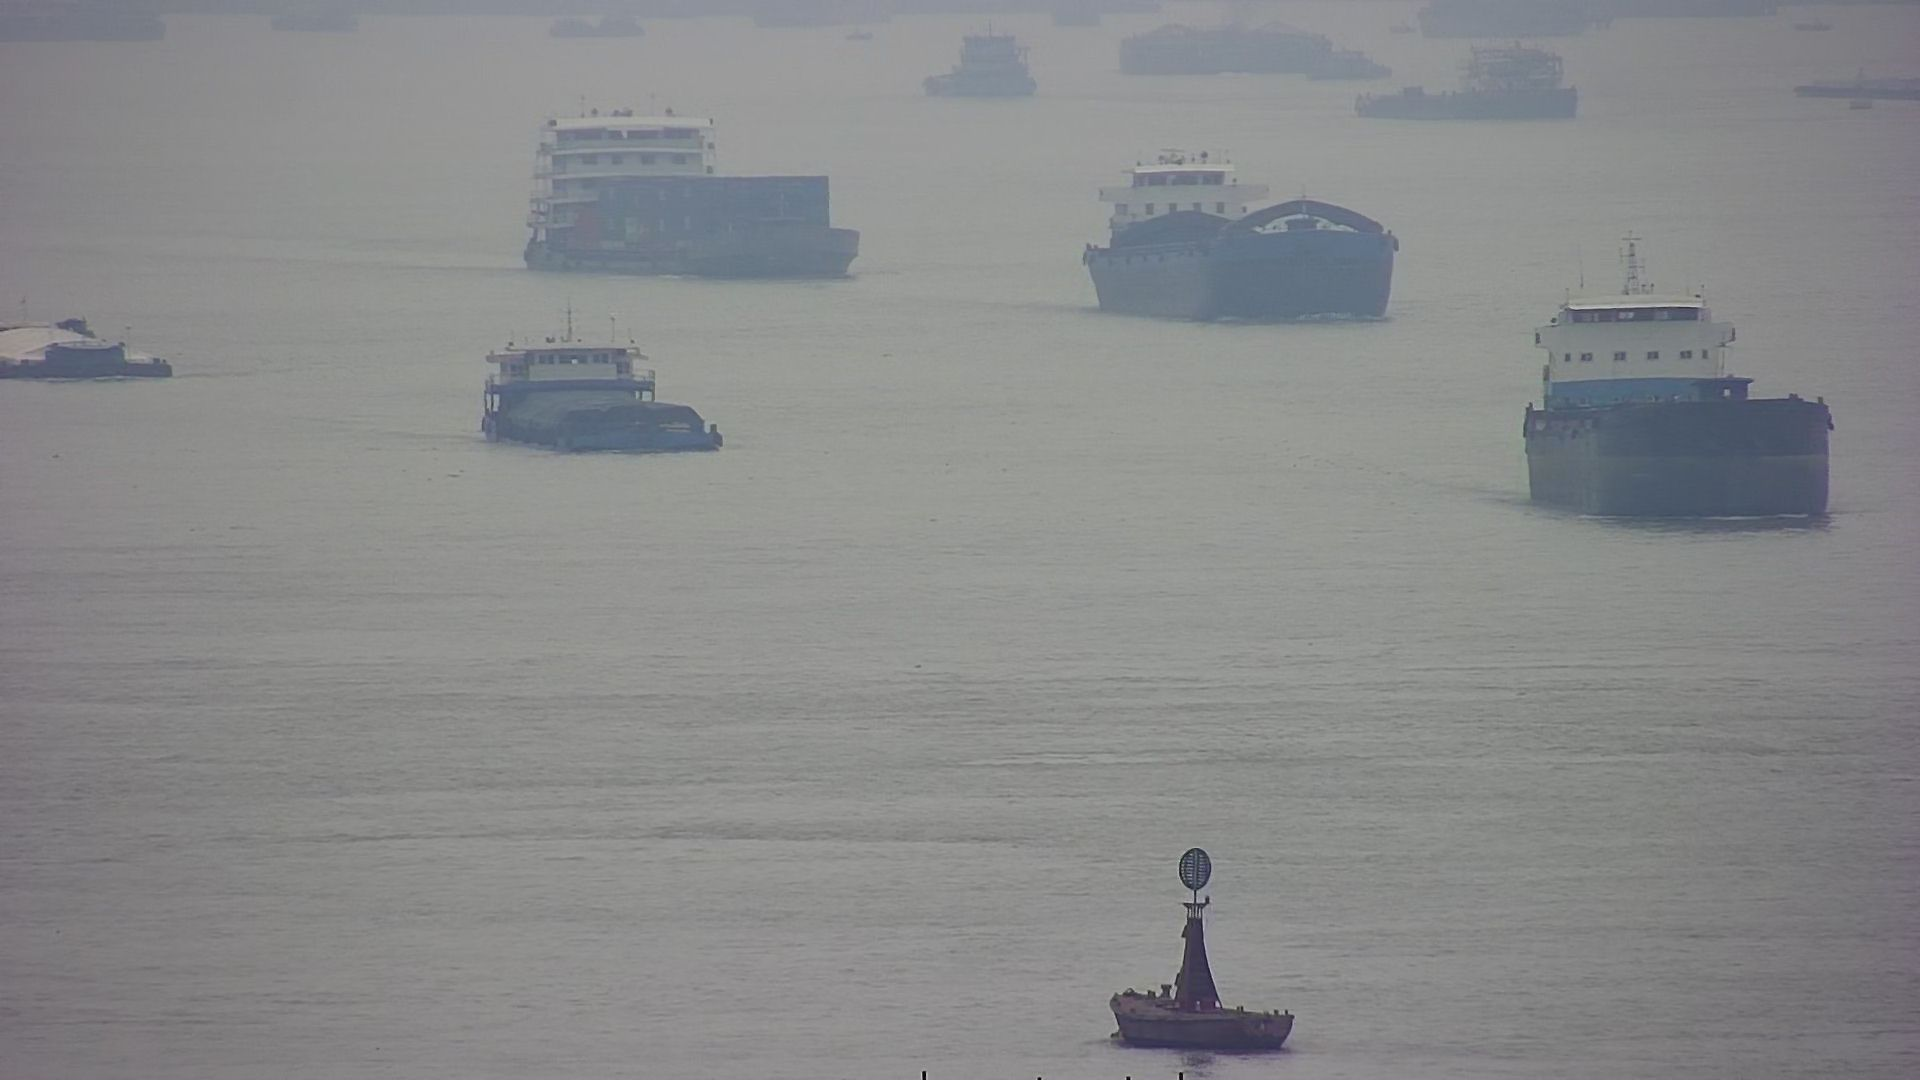boat: (1101, 843, 1302, 1055)
ship: (1513, 258, 1833, 529), (524, 100, 862, 285), (1080, 149, 1393, 322), (480, 322, 723, 455), (1, 291, 178, 388)
